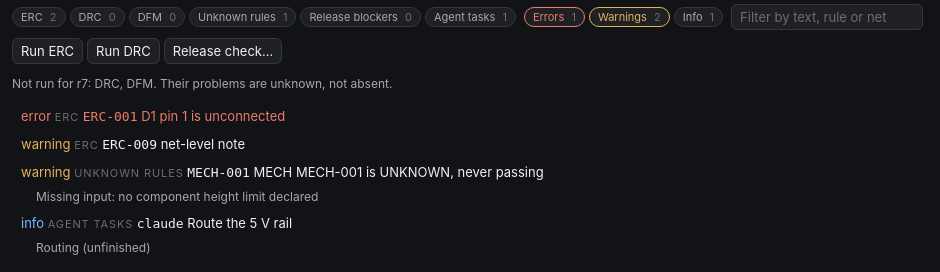
Scenario: Problems panel filters › chips and the text field filter the rows, say how many are hidden, and a row calls go-to
Later steps or results of the test are not shown.
Check: the text "Not run for r7: DRC, DFM" is shown, box [12,76,392,91]
Click the button "ERC 2": [39, 17] box [12,7,66,27]
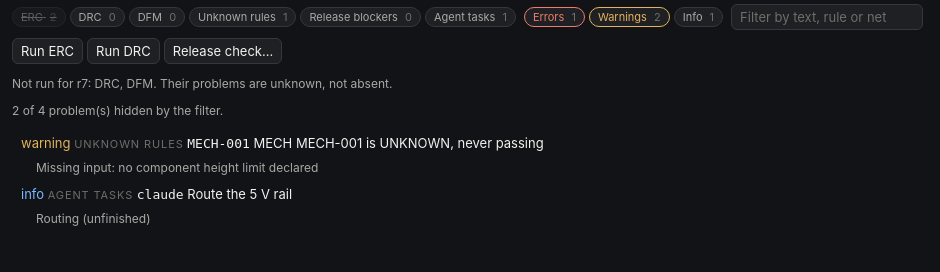
Check: the text "2 of 4 problem(s) hidden by the filter." is shown, box [12,103,223,118]
